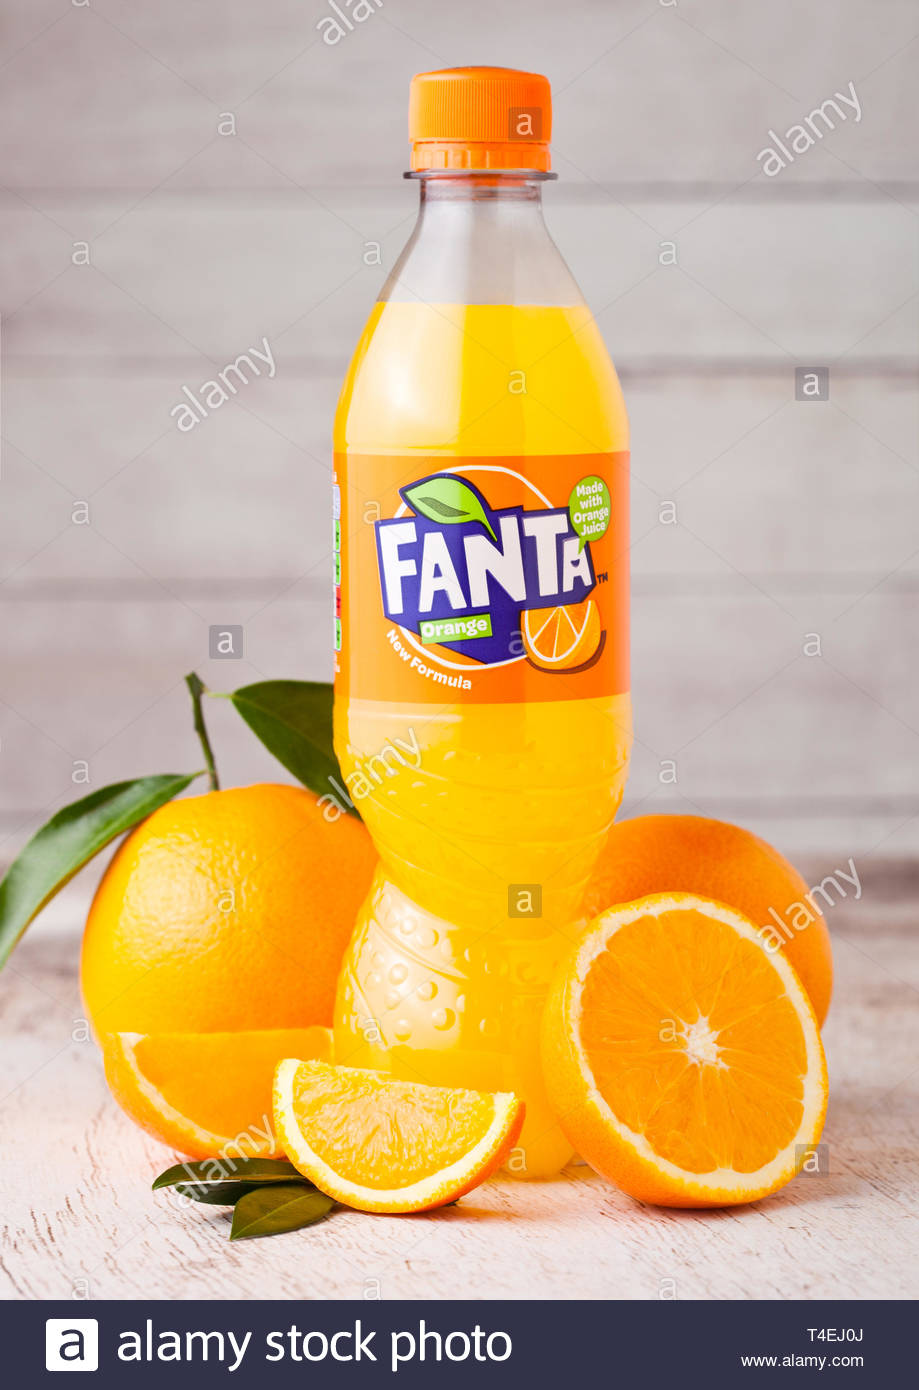Fanta: (310, 75, 620, 1153)
